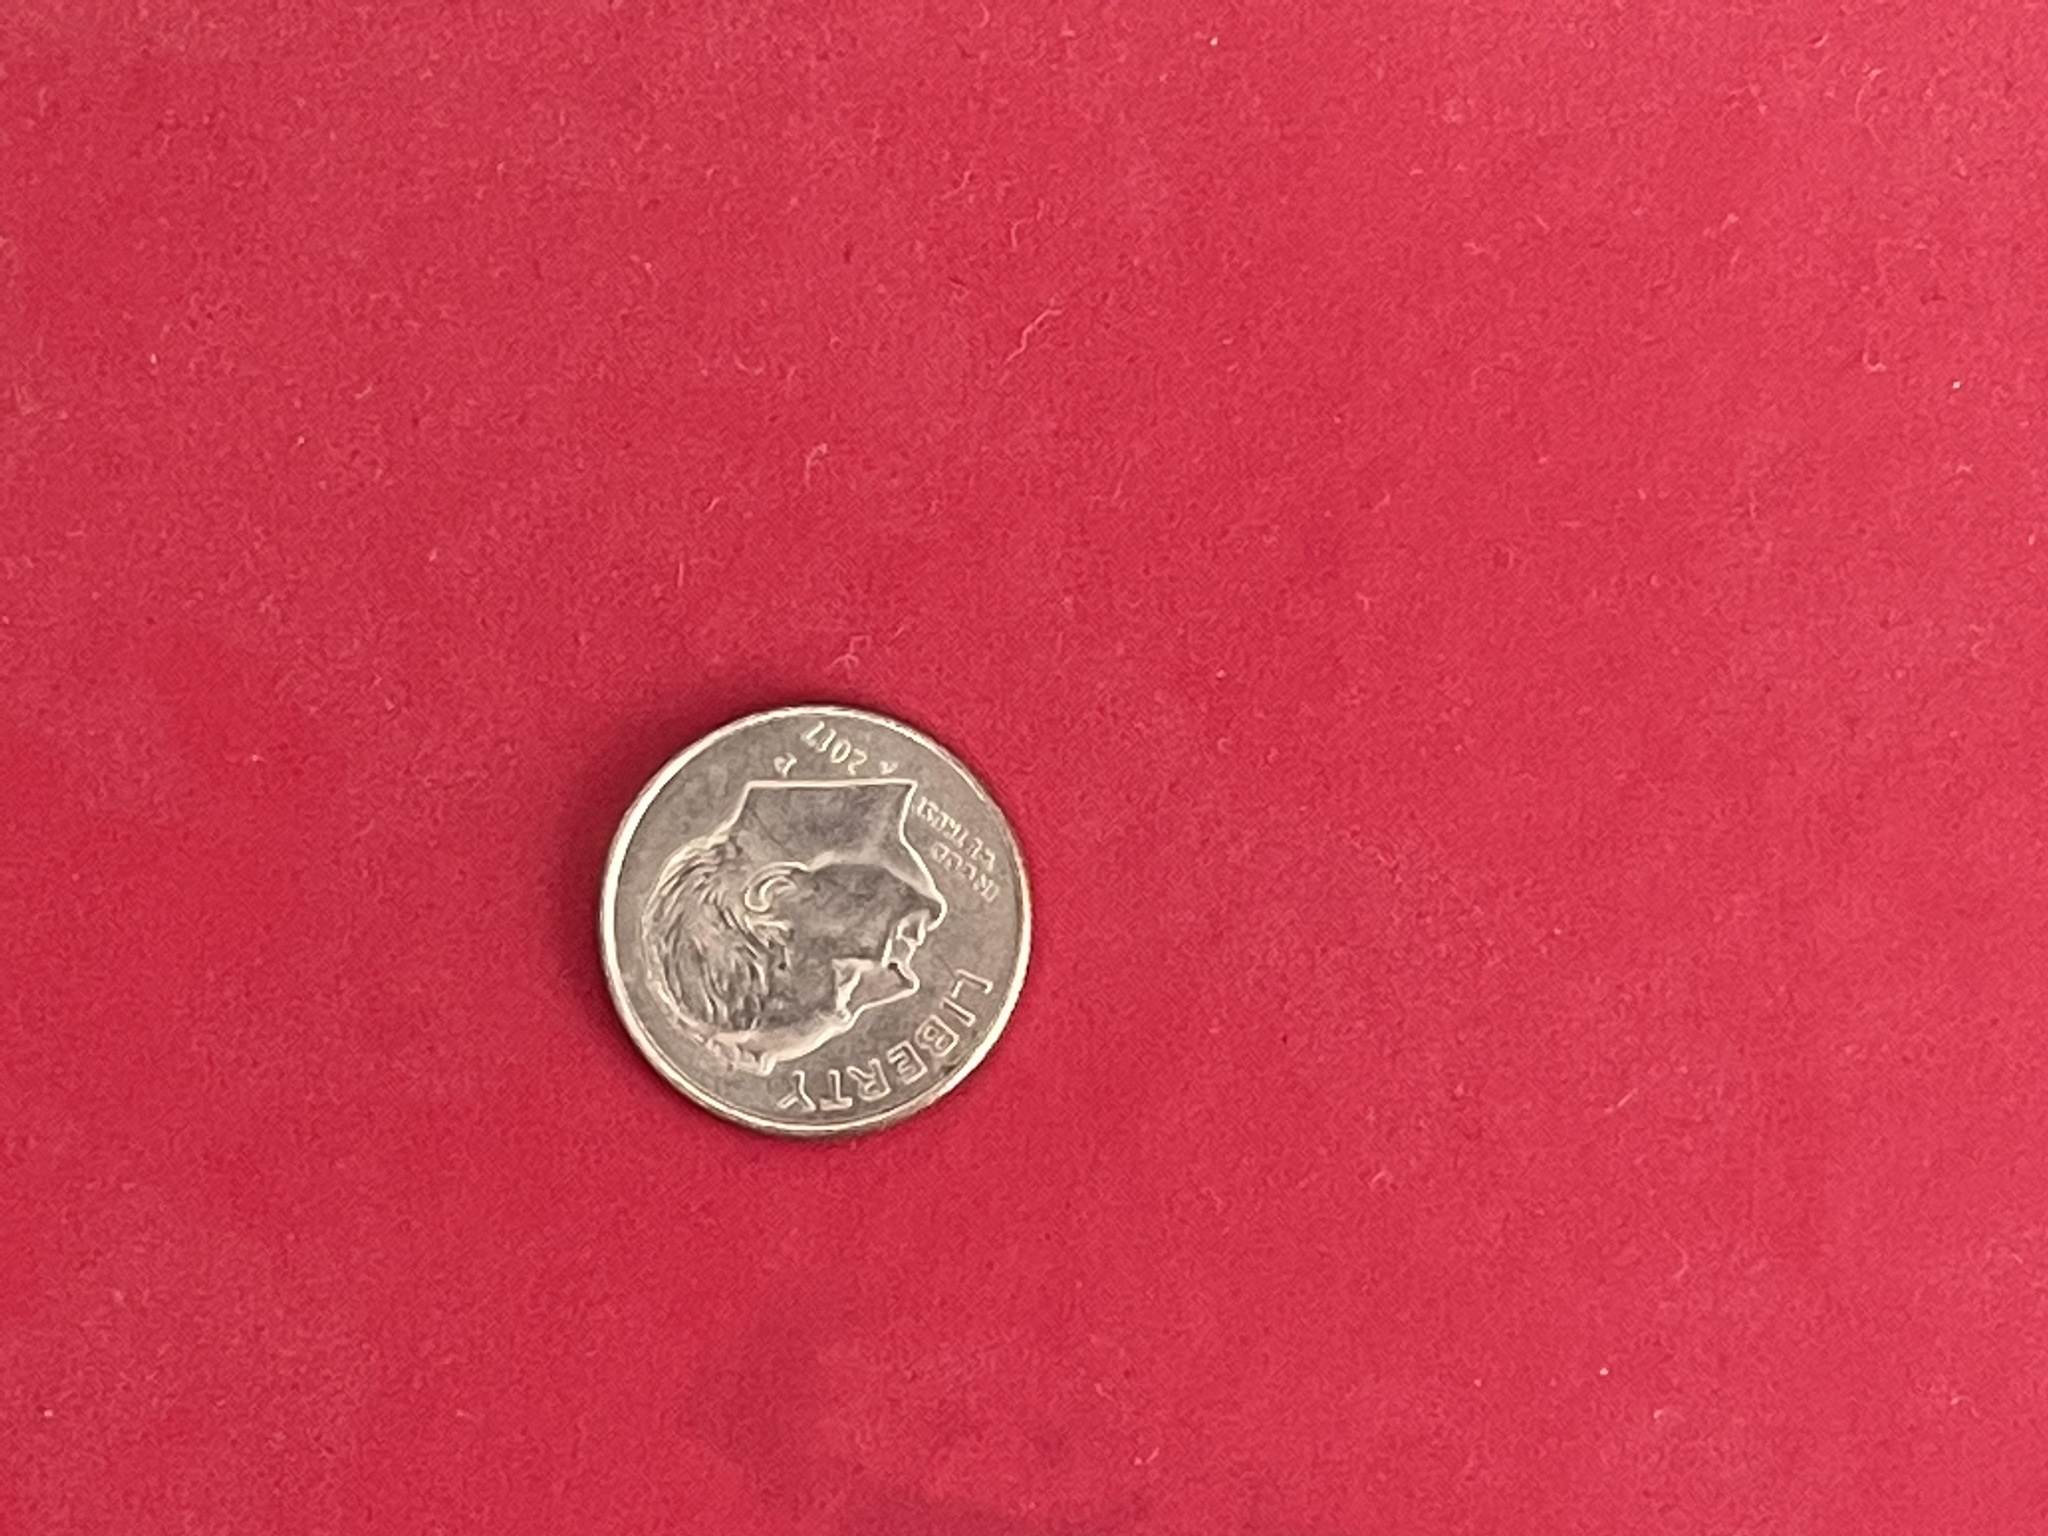dime: (590, 699, 1042, 1147)
